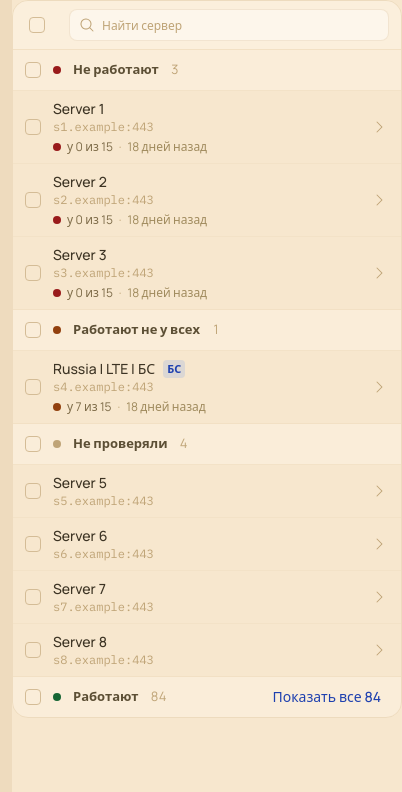
Test: FleetList › groups servers, collapses the healthy ones and expands them on demand
The width and height of the screenshot is (402, 792).
Expected: the text "3" is shown, x1=171 y1=60 x2=179 y2=80
Expected: the text "1" is shown, x1=212 y1=320 x2=220 y2=340
Click the button "Показать все 84": (327, 697) x1=260 y1=681 x2=393 y2=713
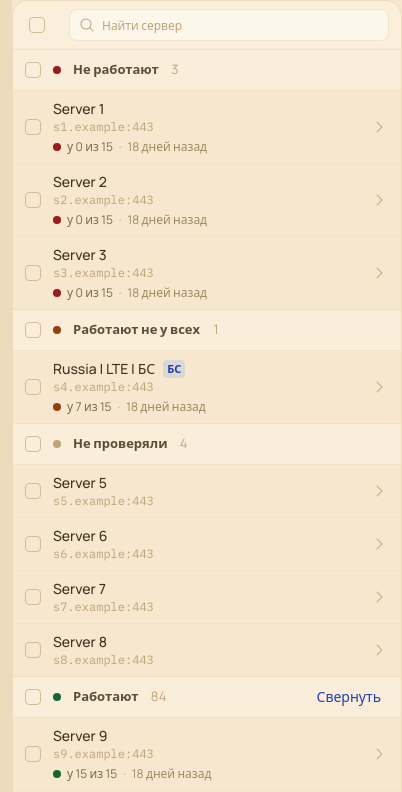
Now the button "Свернуть" is shown, box x1=304 y1=681 x2=393 y2=713
